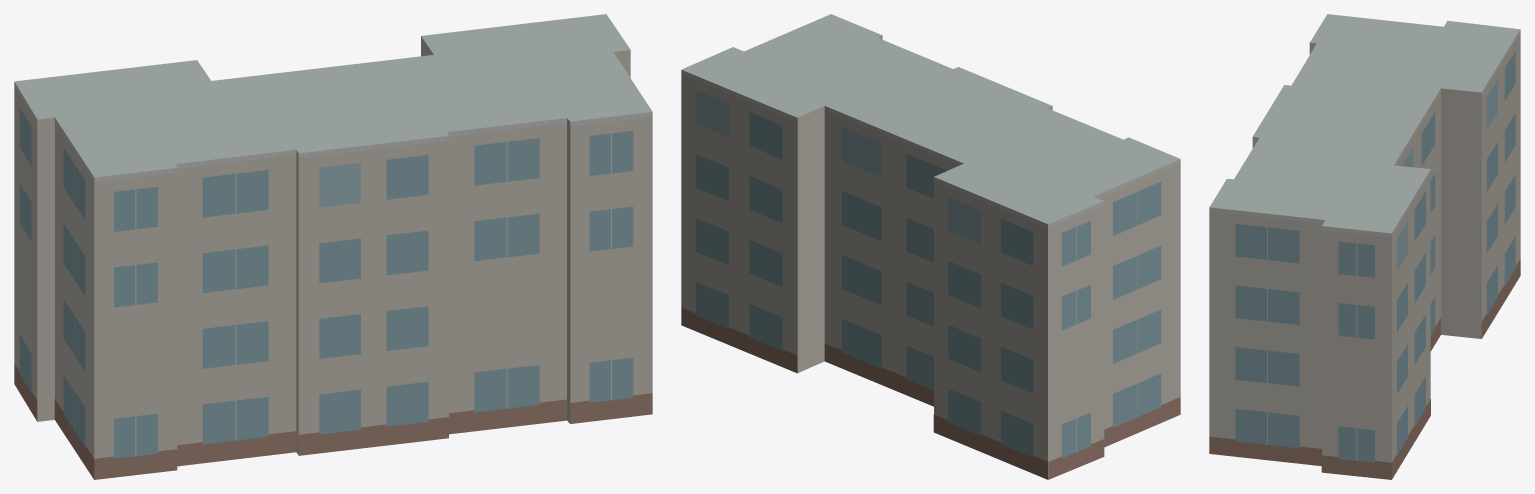
File: survey-upis-32800477.glb
The picture shows the model from 3 angles, left to right: view 1: azimuth 30°, elevation 25°; view 2: azimuth 150°, elevation 25°; view 3: azimuth 270°, elevation 25°; orthographic projection. The views are drawn at different scales.
Parts seen in each view (by area): view 1: survey-upis-32800477.tmp; view 2: survey-upis-32800477.tmp; view 3: survey-upis-32800477.tmp.
Boxes of the visible parts, x1,y1,x2,y2 form: survey-upis-32800477.tmp: (14, 14, 652, 479); survey-upis-32800477.tmp: (681, 14, 1180, 479); survey-upis-32800477.tmp: (1209, 14, 1520, 479).
Bounding box in the file's own units: 28.64 × 15 × 17.16.
